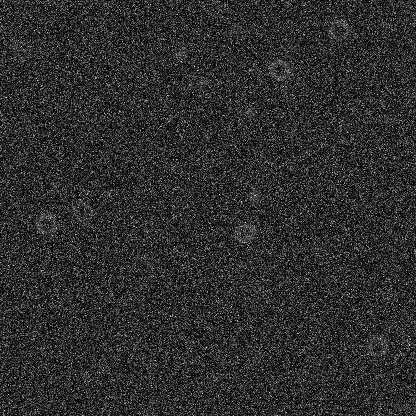Ring: (208, 287, 232, 311), (326, 17, 350, 41), (365, 334, 389, 358), (232, 220, 256, 244), (267, 57, 291, 81), (129, 251, 153, 275), (10, 38, 34, 62), (70, 199, 94, 223), (247, 285, 271, 309), (34, 211, 58, 235)
Spot: (247, 187, 263, 203), (129, 278, 145, 294), (172, 45, 188, 61), (242, 104, 258, 120), (214, 341, 230, 357), (225, 22, 241, 38), (192, 73, 208, 89)
